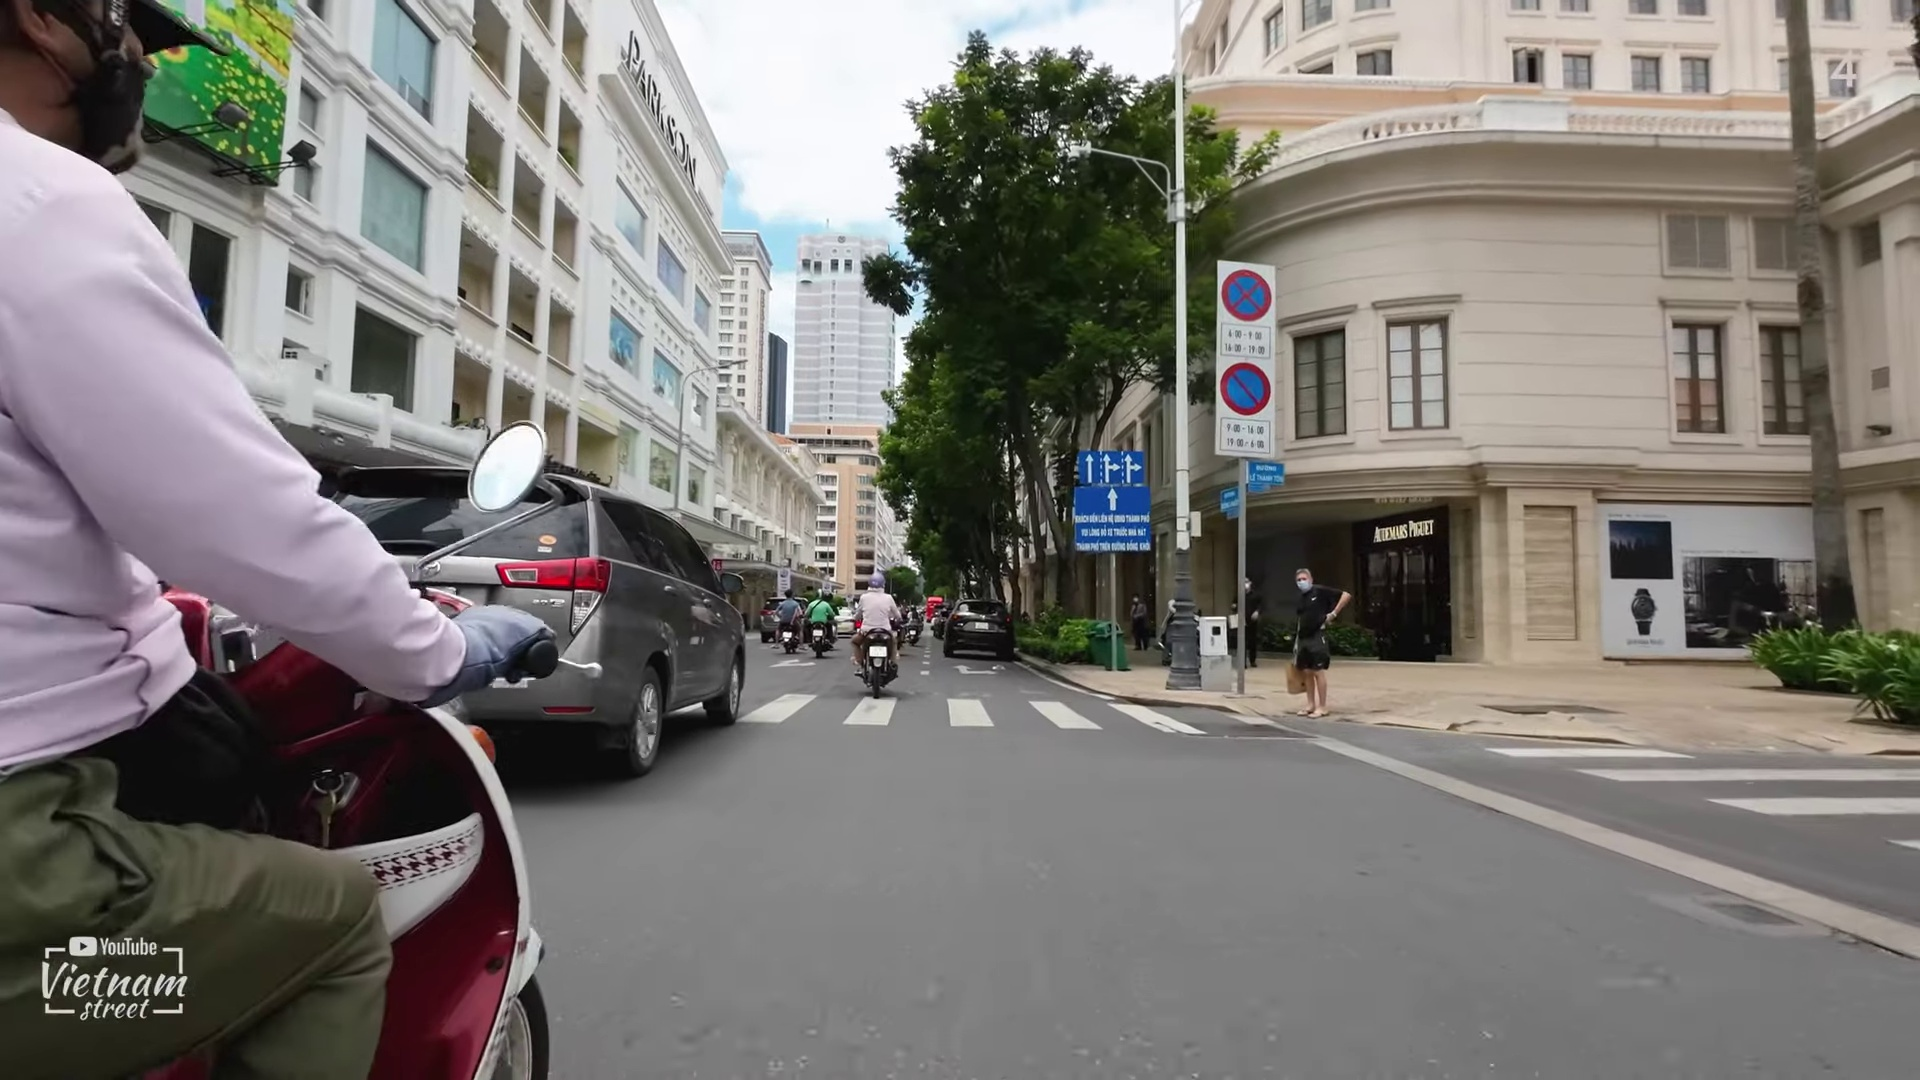cam_do_xe: (1215, 355, 1276, 423)
